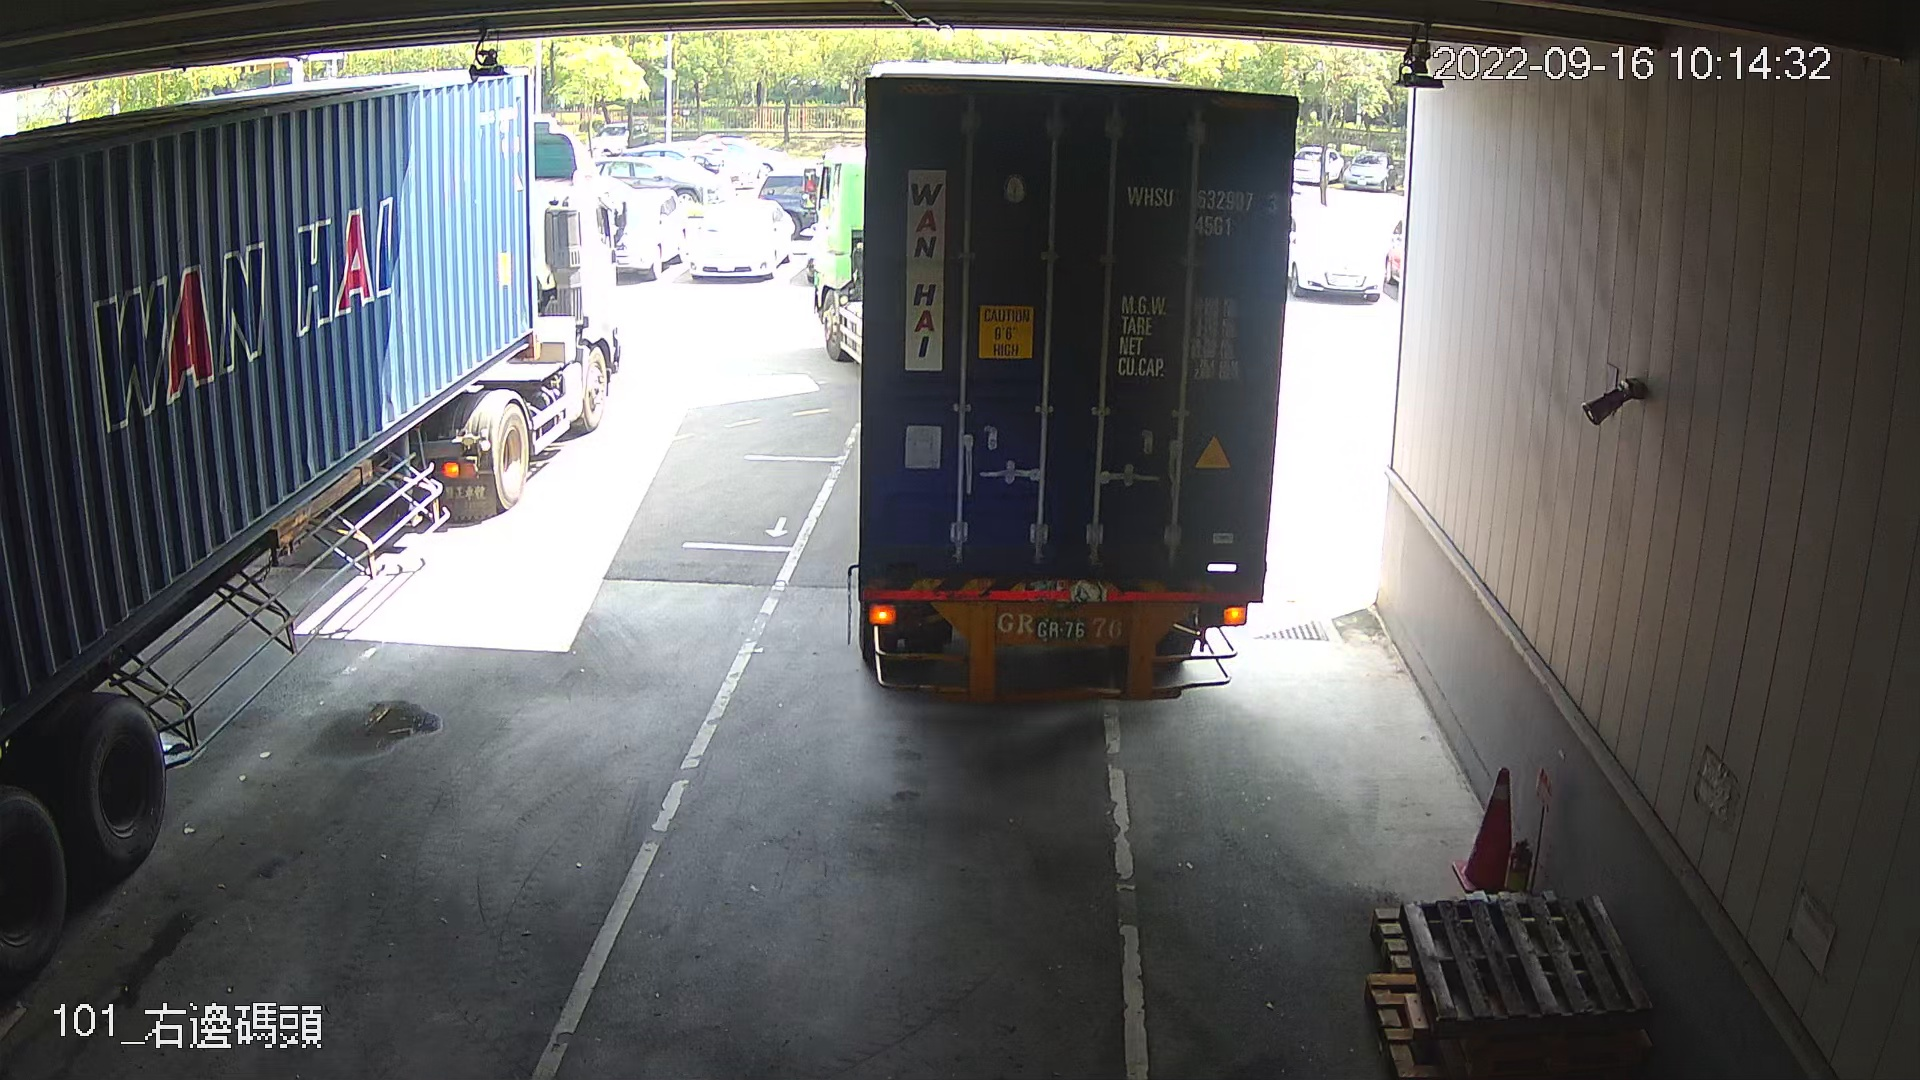container: (1120, 177, 1284, 245)
